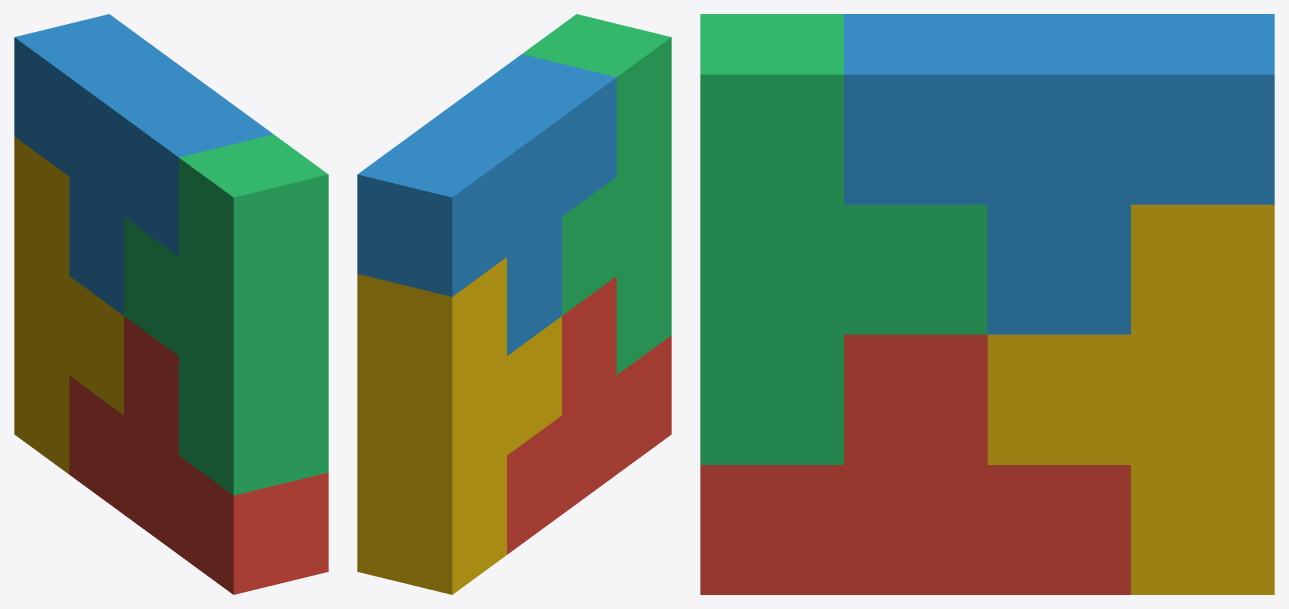
Rendered from tiling.obj.
3 views of the same model, side by side, from view 1: azimuth 30°, elevation 25°; view 2: azimuth 150°, elevation 25°; view 3: azimuth 270°, elevation 25° (orthographic). The views are drawn at different scales.
Visible parts, largest first — view 1: copy_3, copy_2, copy_1, copy_4; view 2: copy_4, copy_2, copy_3, copy_1; view 3: copy_2, copy_3, copy_4, copy_1.
Part boxes in pixels (x1,y1,x2,y2): copy_3: [124, 134, 328, 495]; copy_2: [14, 14, 273, 315]; copy_1: [69, 316, 328, 594]; copy_4: [14, 136, 123, 474]; copy_4: [357, 257, 561, 594]; copy_2: [357, 54, 616, 355]; copy_3: [522, 14, 671, 374]; copy_1: [507, 276, 671, 554]; copy_2: [844, 14, 1274, 334]; copy_3: [700, 14, 987, 464]; copy_4: [987, 204, 1274, 594]; copy_1: [700, 334, 1130, 594].
Bounding box in the file's own units: 1 × 4 × 4.
